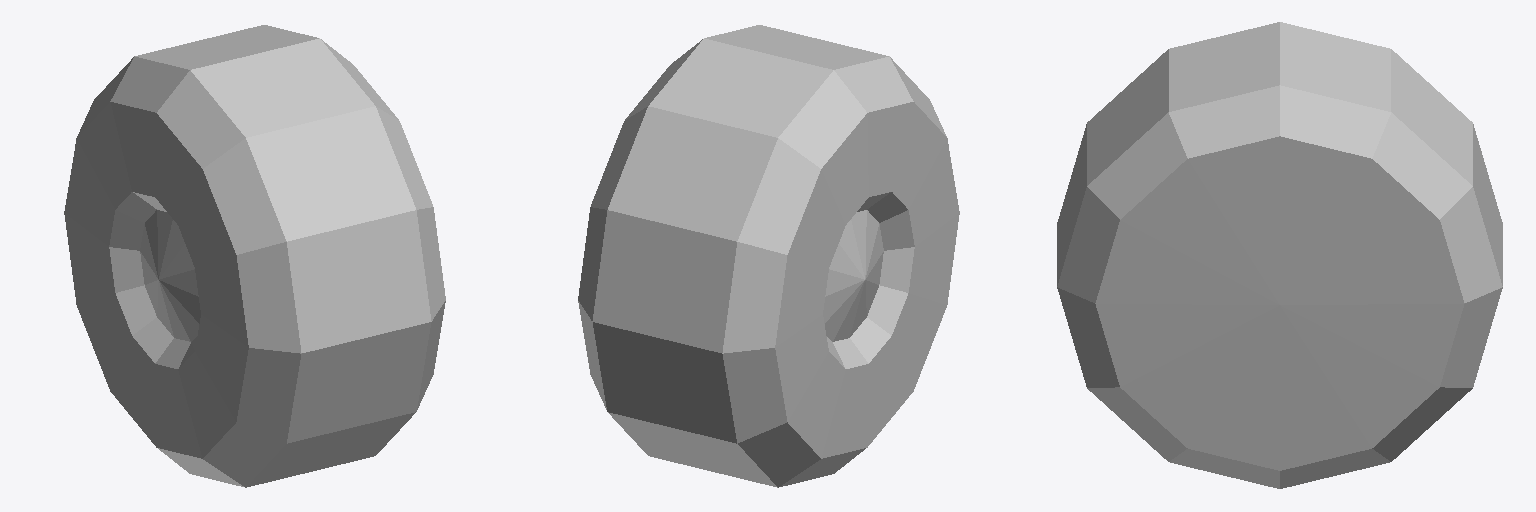
The model's file is spacetruck_wheel_front_right.obj.
The picture shows the model from 3 angles: view 1: azimuth 30°, elevation 25°; view 2: azimuth 150°, elevation 25°; view 3: azimuth 270°, elevation 25°; orthographic projection.
Visible parts, largest first — view 1: spacetruck_wheel_front_right_Cylinder.2704; view 2: spacetruck_wheel_front_right_Cylinder.2704; view 3: spacetruck_wheel_front_right_Cylinder.2704.
Boxes of the visible parts, box(x1,y1,x2,y2) form: spacetruck_wheel_front_right_Cylinder.2704: box(64, 25, 445, 487); spacetruck_wheel_front_right_Cylinder.2704: box(578, 25, 959, 487); spacetruck_wheel_front_right_Cylinder.2704: box(1057, 22, 1502, 488).
Size of the model in its own units: 0.0916 by 0.1754 by 0.1754.